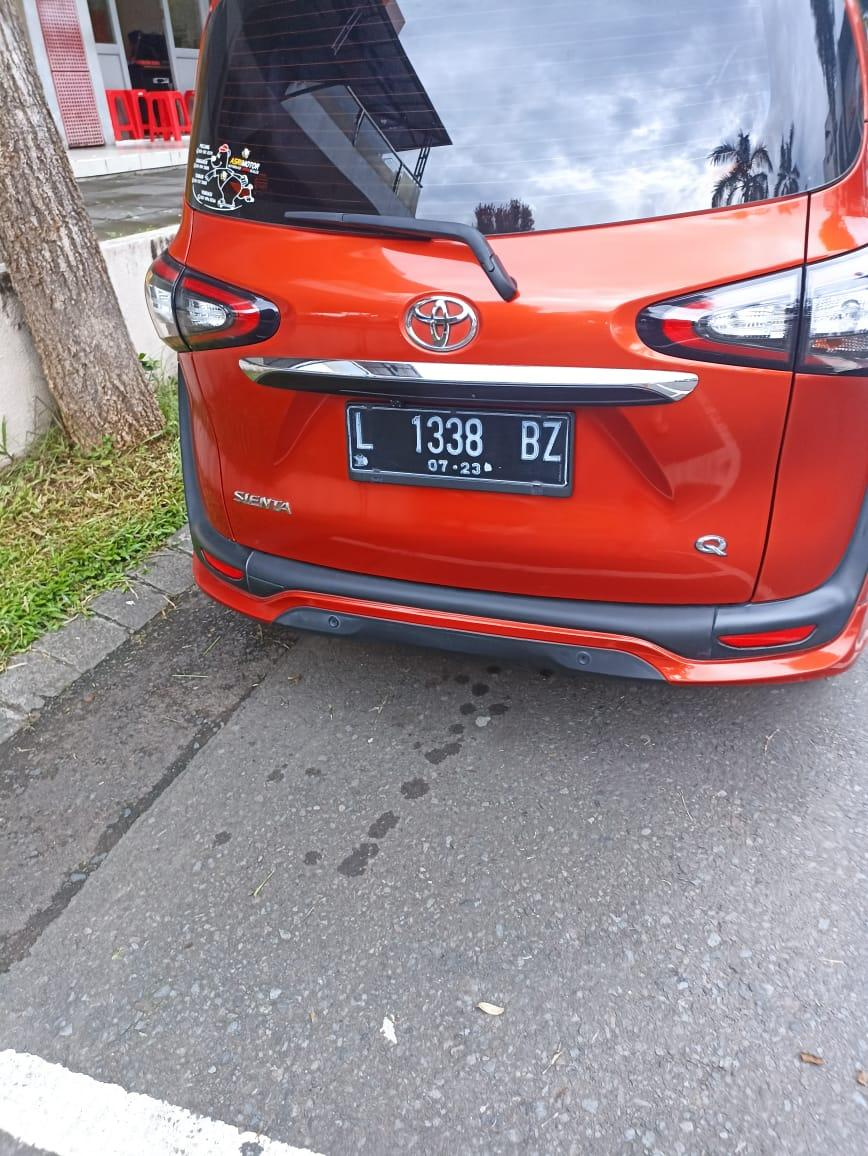plat: (348, 405, 573, 497)
